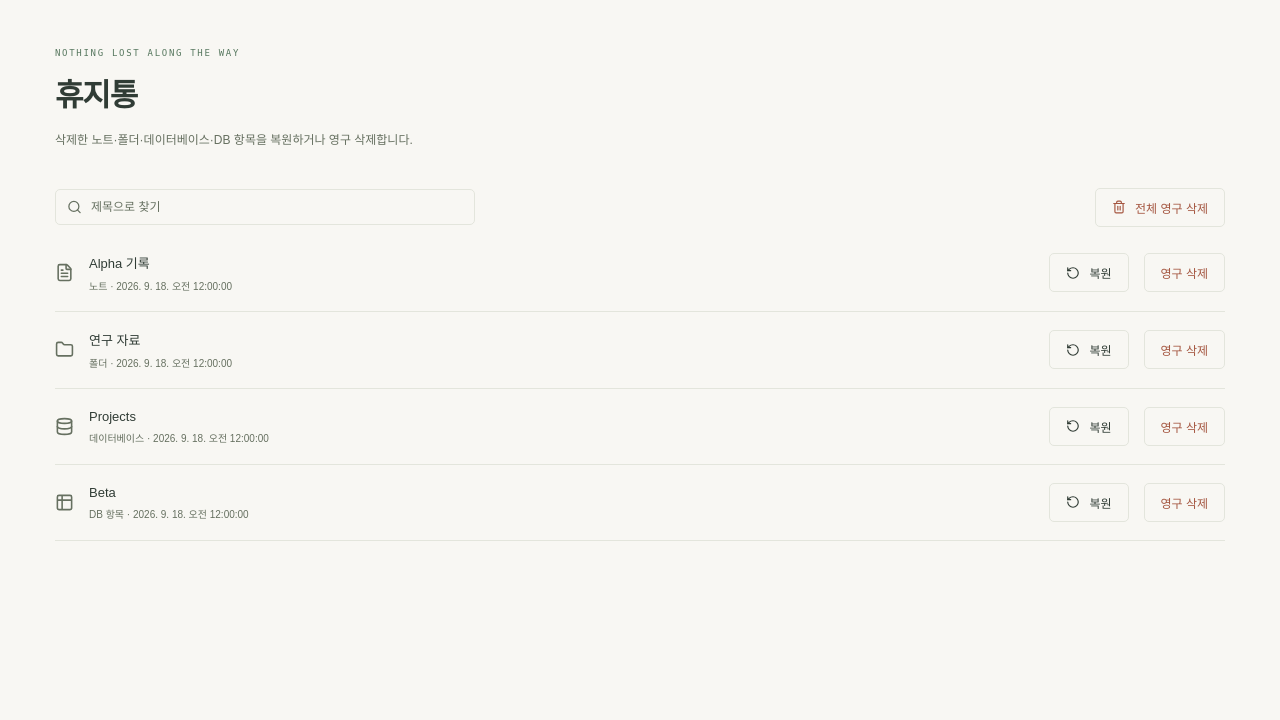
Test: folder and database confirmation describe included children and rows
Click the button "영구 삭제" in the row of "연구 자료": (1184, 350) 1144,330 -> 1225,369
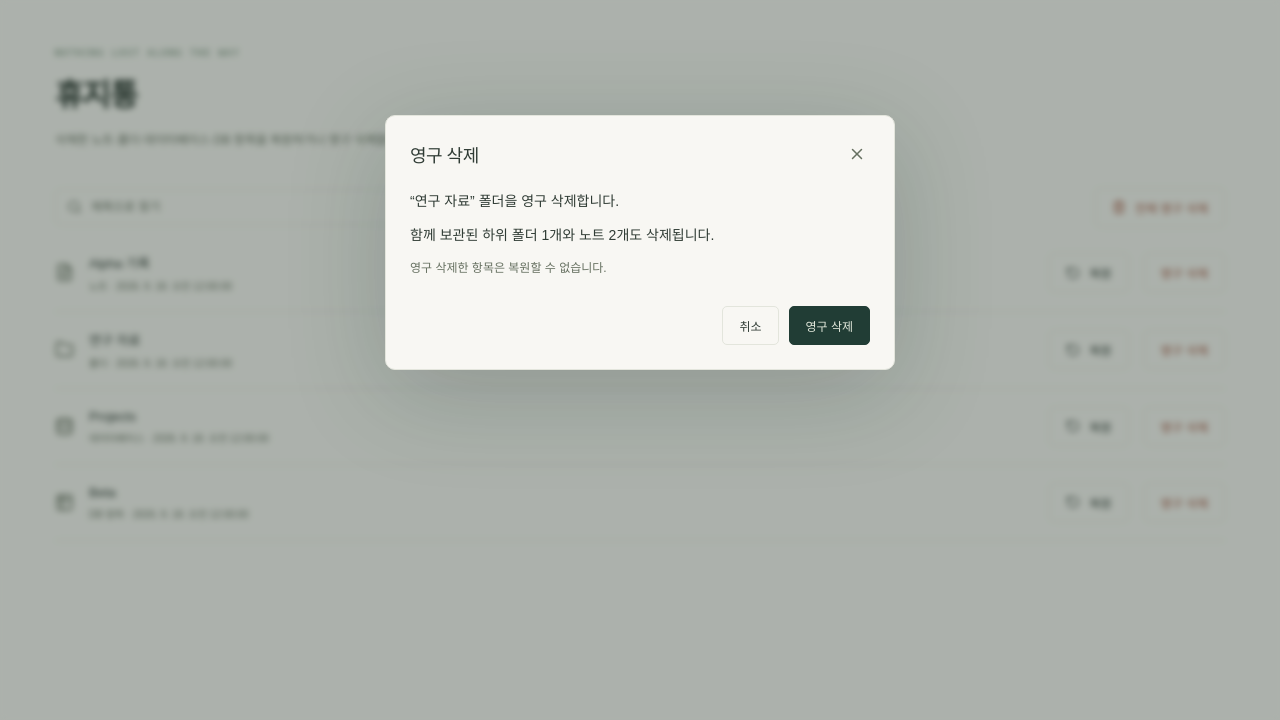
Check: the dialog shows "하위 폴더 1개와 노트 2개", box 385,115 -> 895,370
Click the button "취소": (750, 325) 722,306 -> 778,345
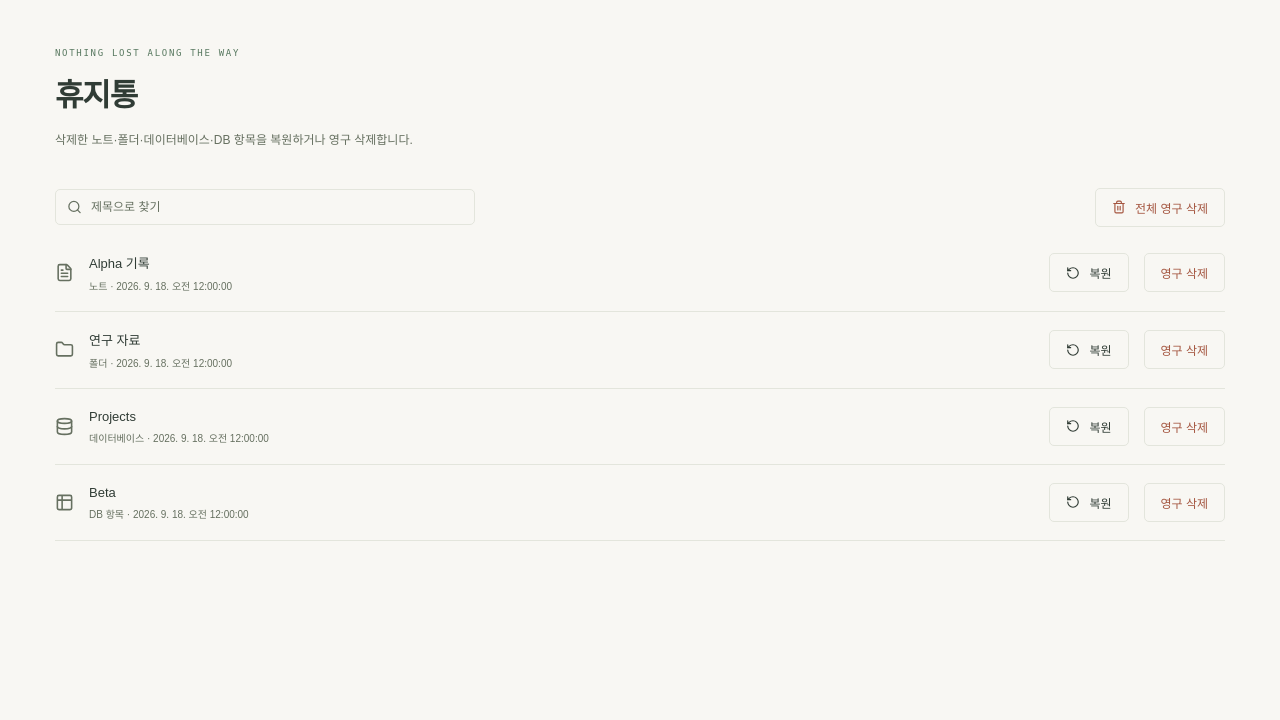
Click the button "영구 삭제" in the row of "Projects": (1184, 426) 1144,407 -> 1225,446
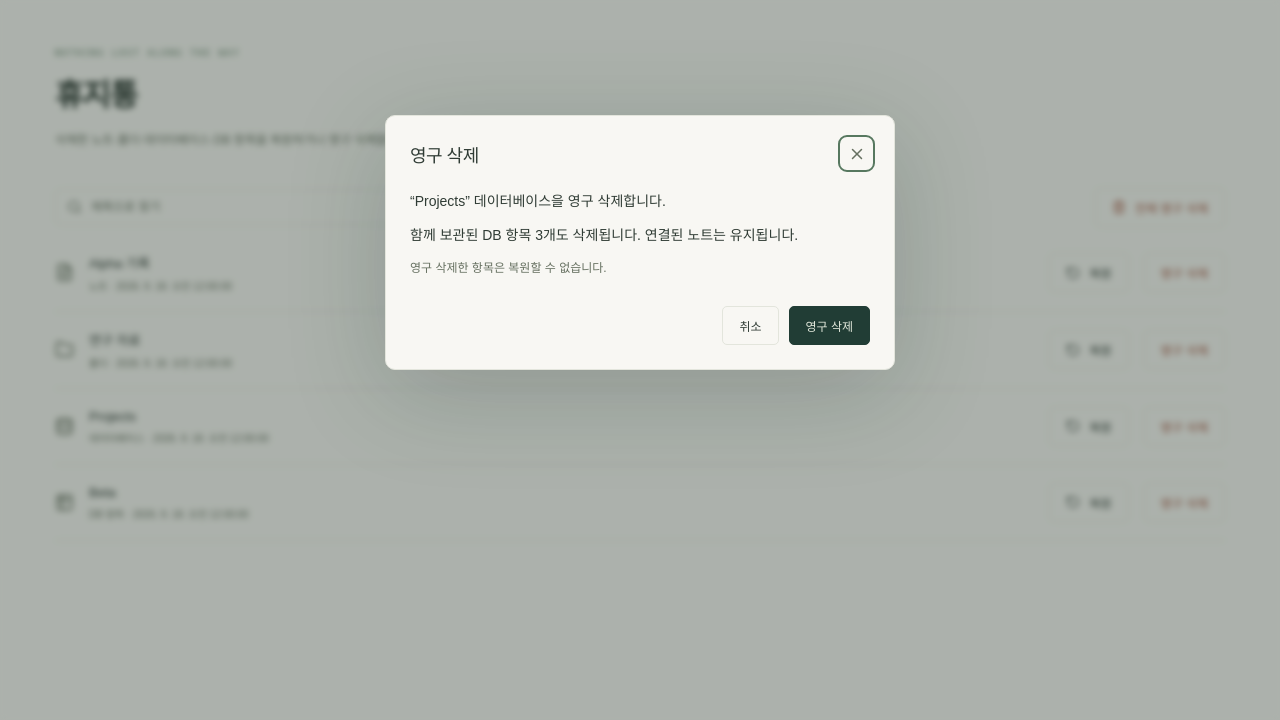
Check: the dialog shows "DB 항목 3개", box 385,115 -> 895,370
Check: the dialog shows "연결된 노트는 유지", box 543,227 -> 798,243
